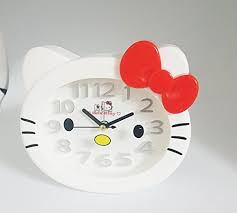alarm_clock: (18, 40, 198, 195)
